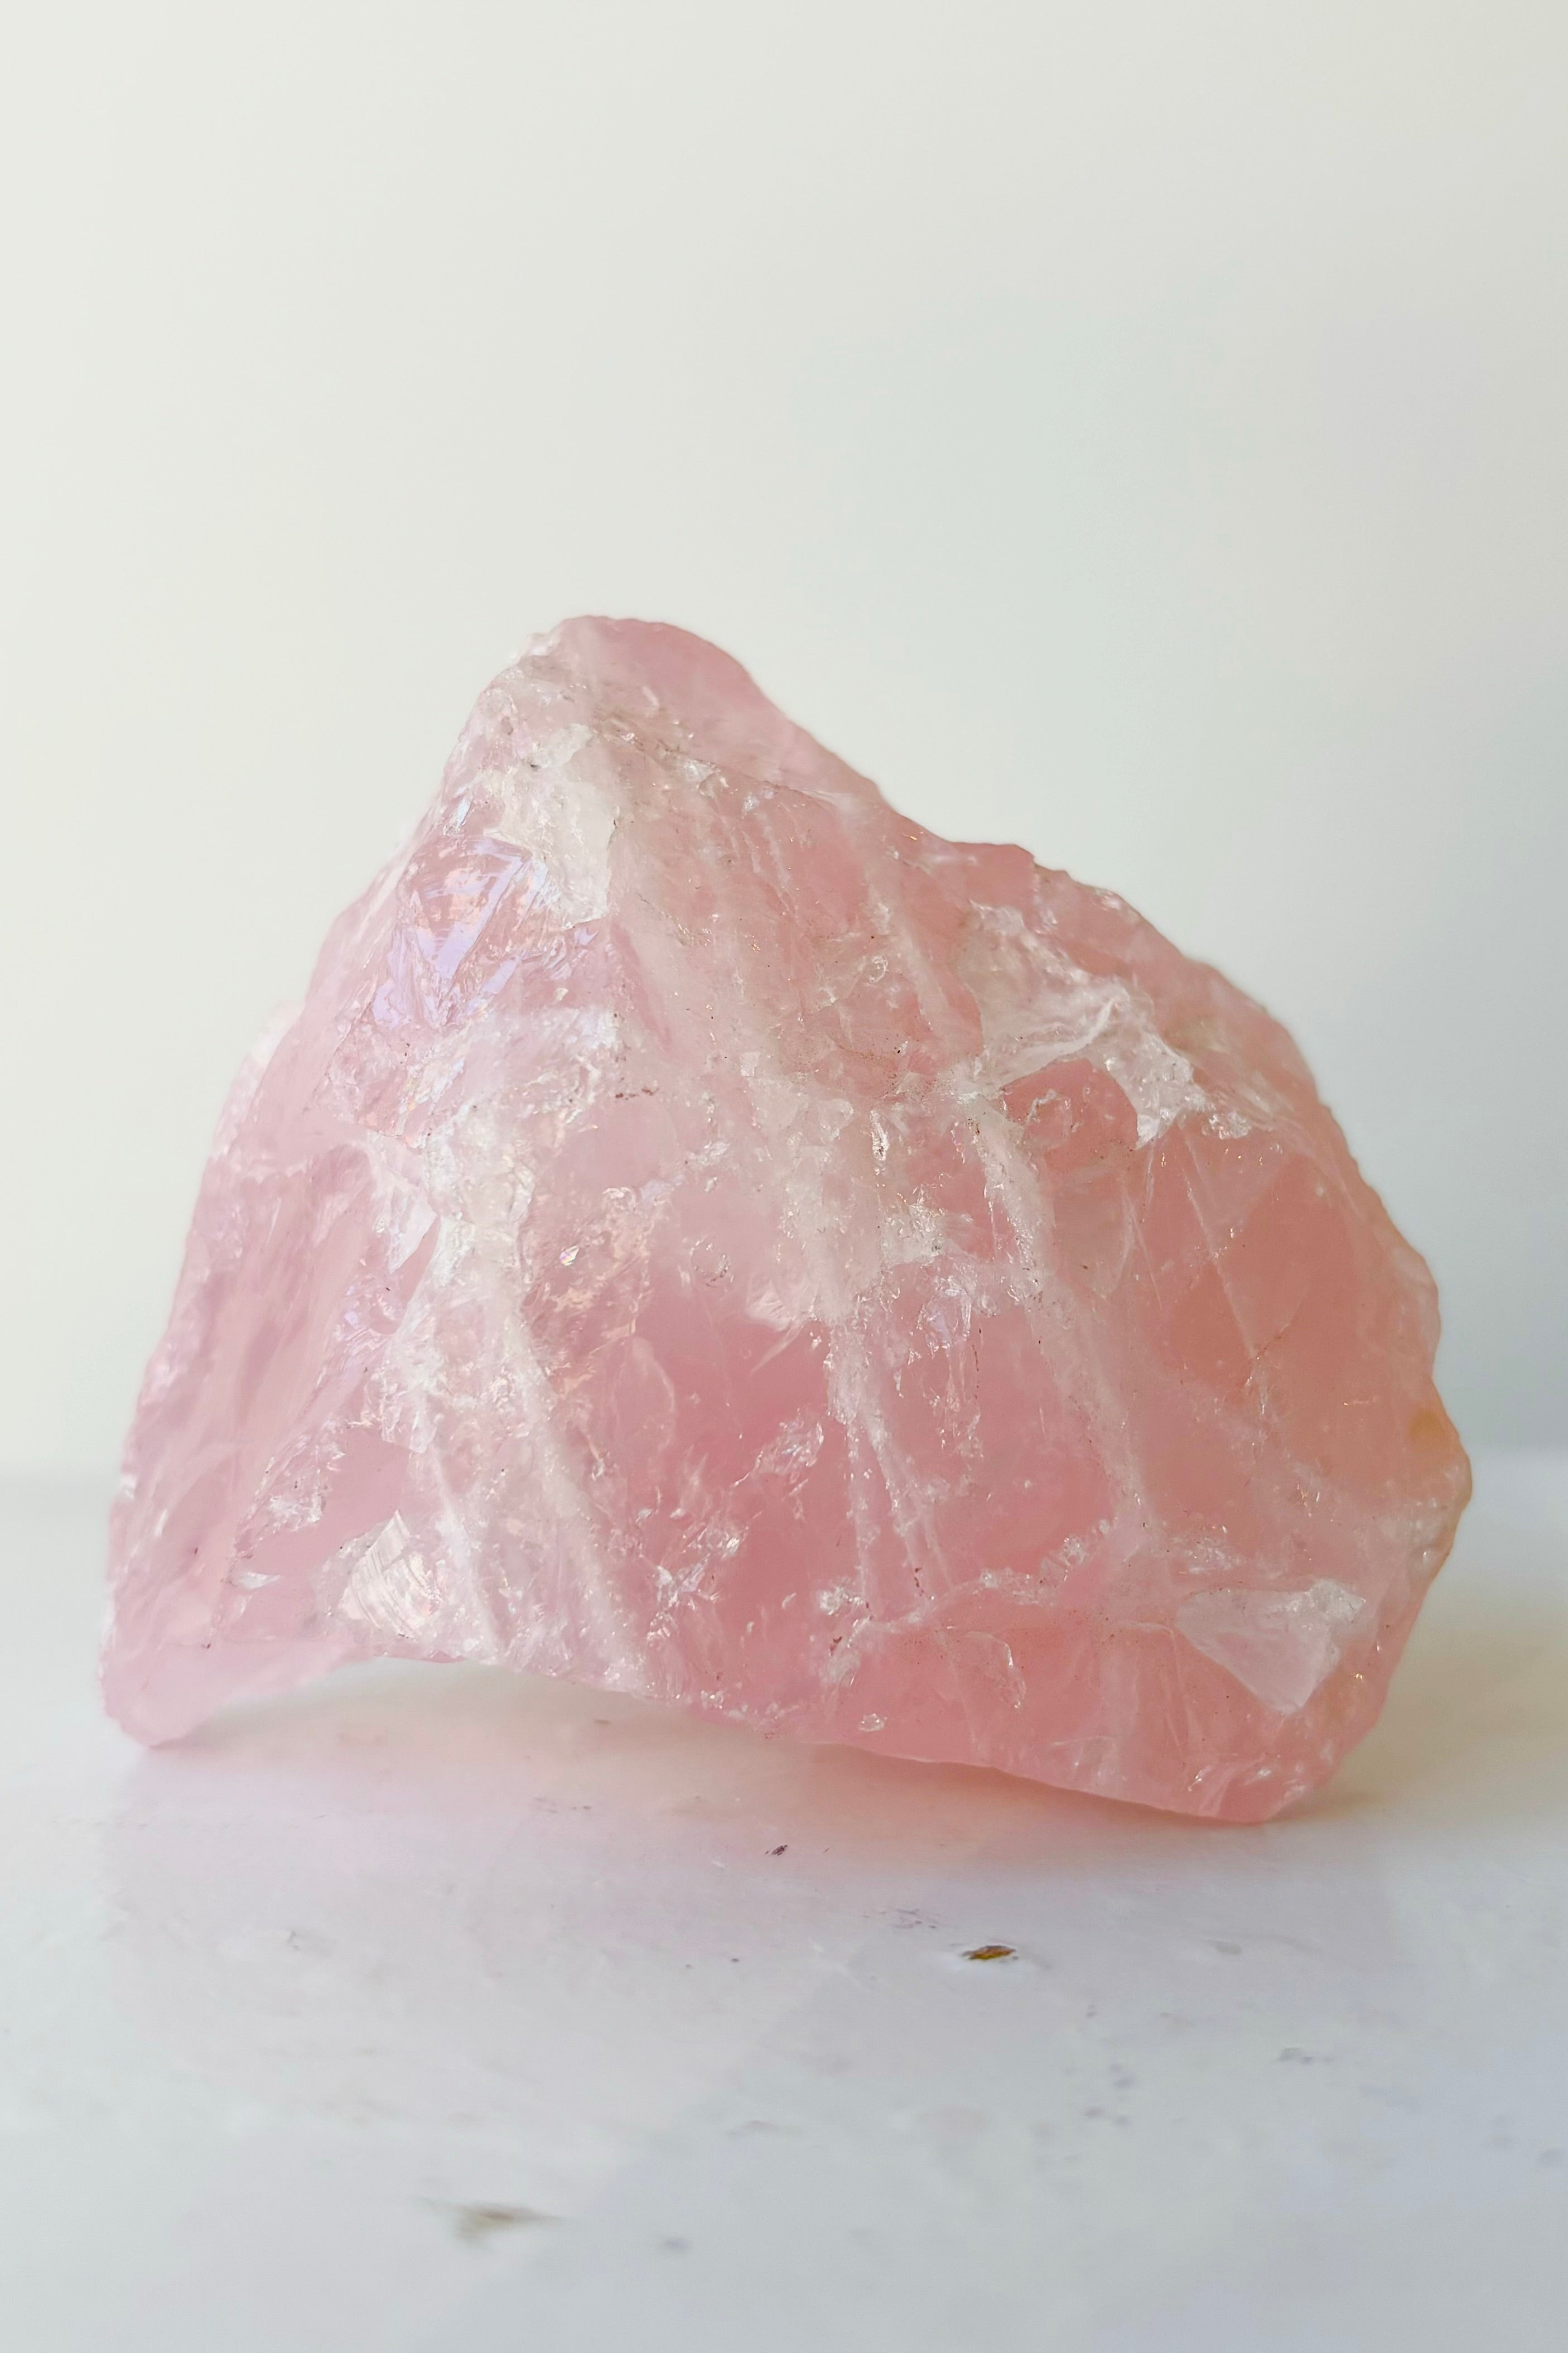Rose_Quartz: (82, 611, 1472, 1830)
